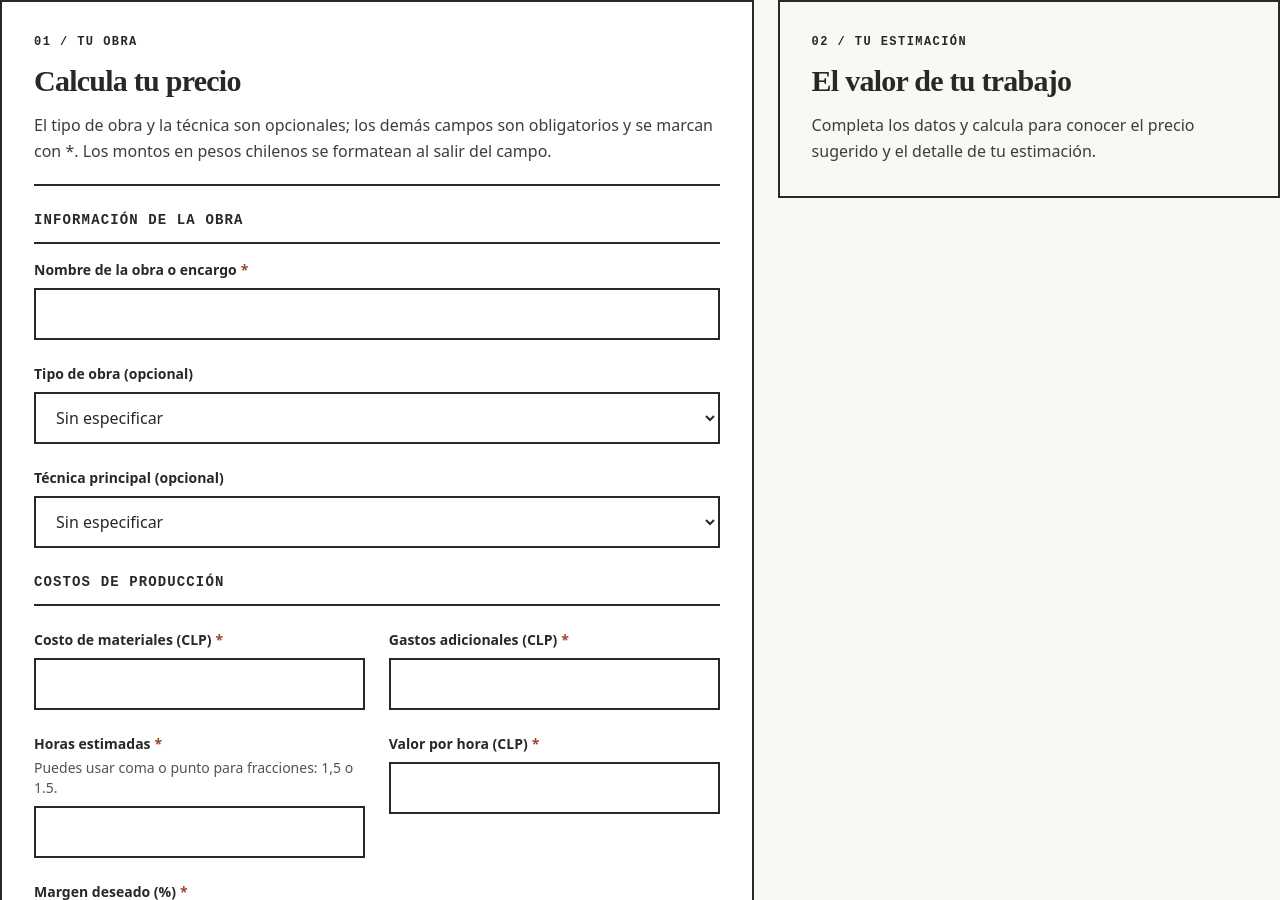
Test case: Calculadora › formatea montos al salir y permite editarlos sin separadores
This screenshot has width=1280, height=900.
Type "5000" into the field labelled "Costo de materiales (CLP)" at (199, 684), box top-left (34, 658), bottom-right (365, 710)
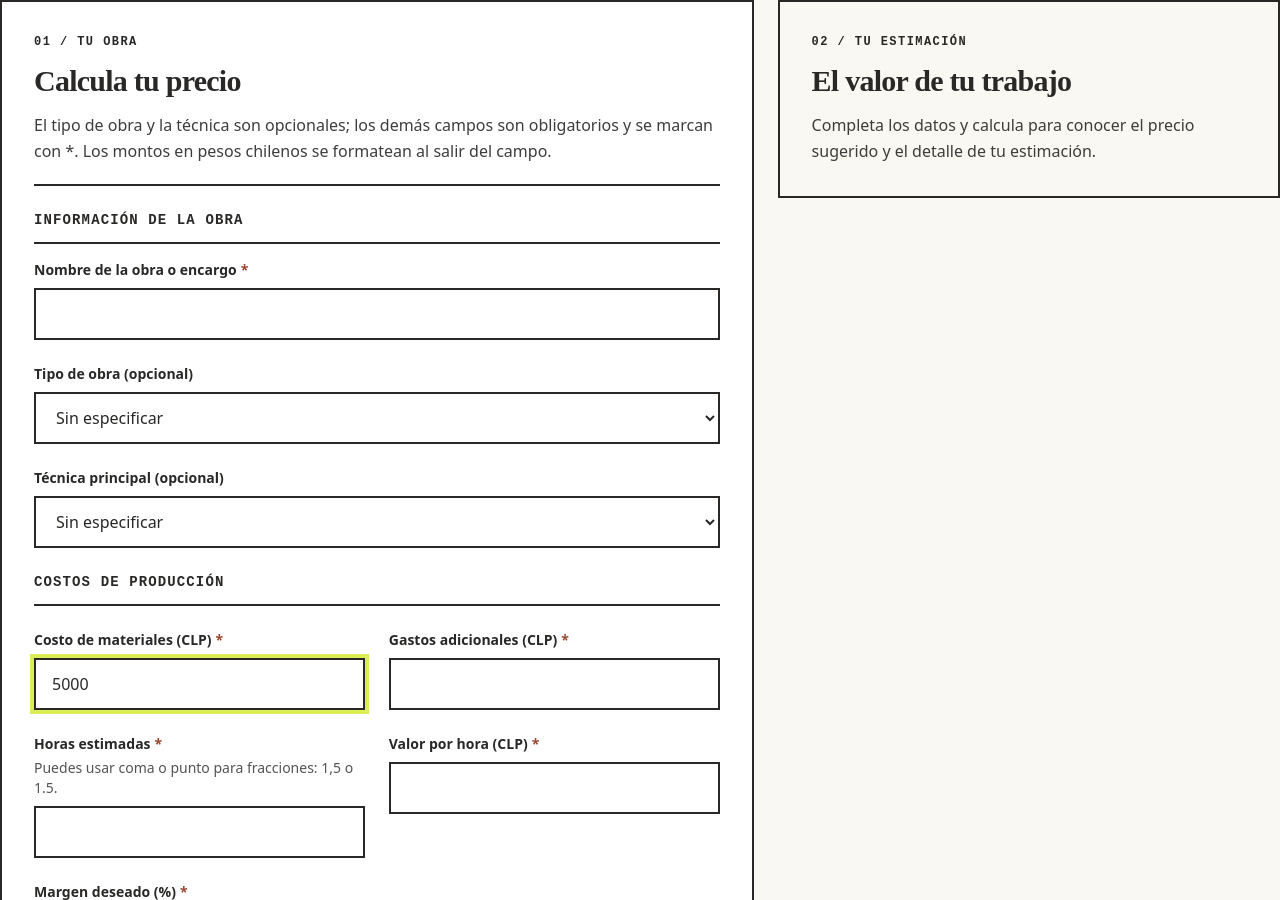
Press Tab
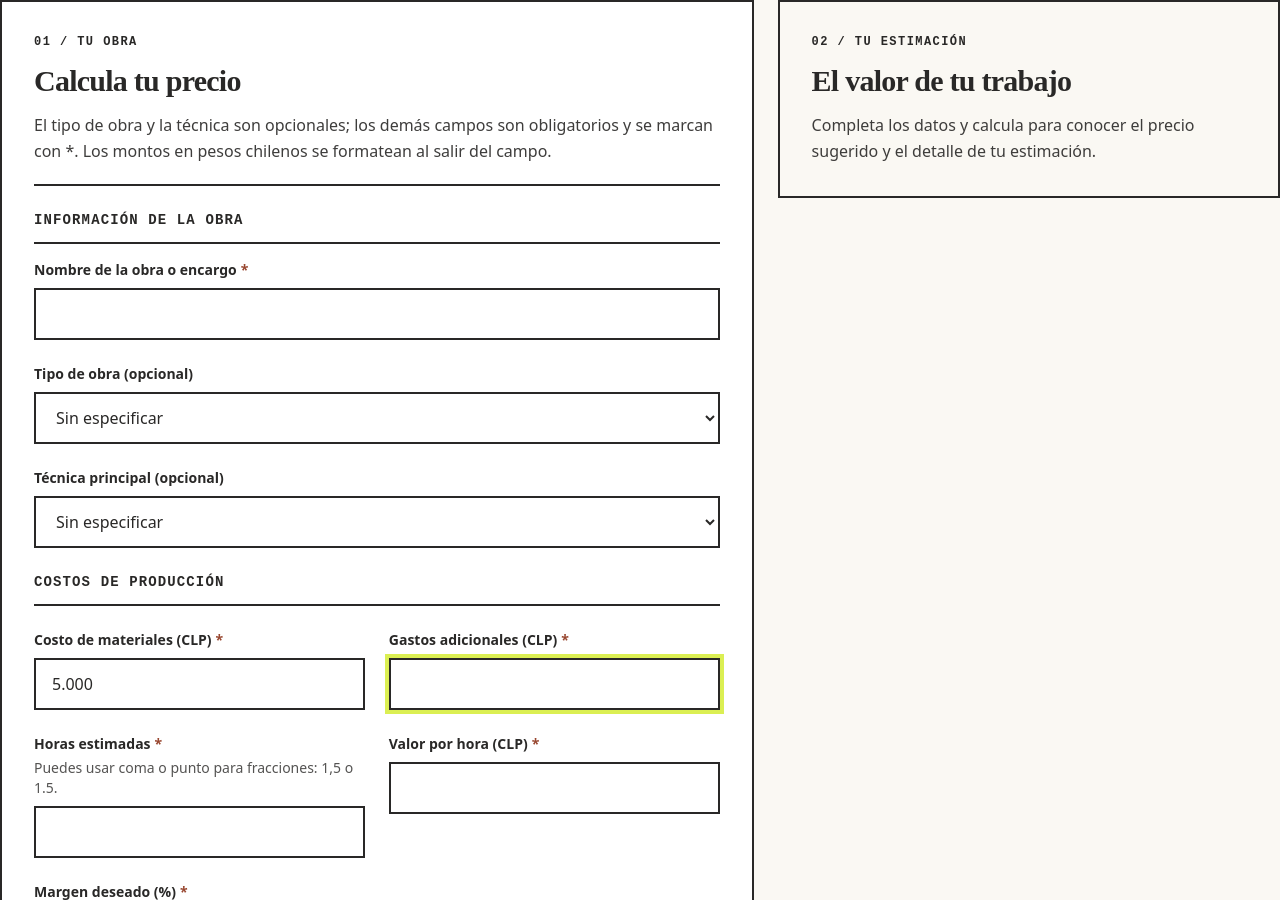
Expected: the field labelled "Costo de materiales (CLP)" holds "5.000"
Click the field labelled "Costo de materiales (CLP)" at (199, 684), box top-left (34, 658), bottom-right (365, 710)
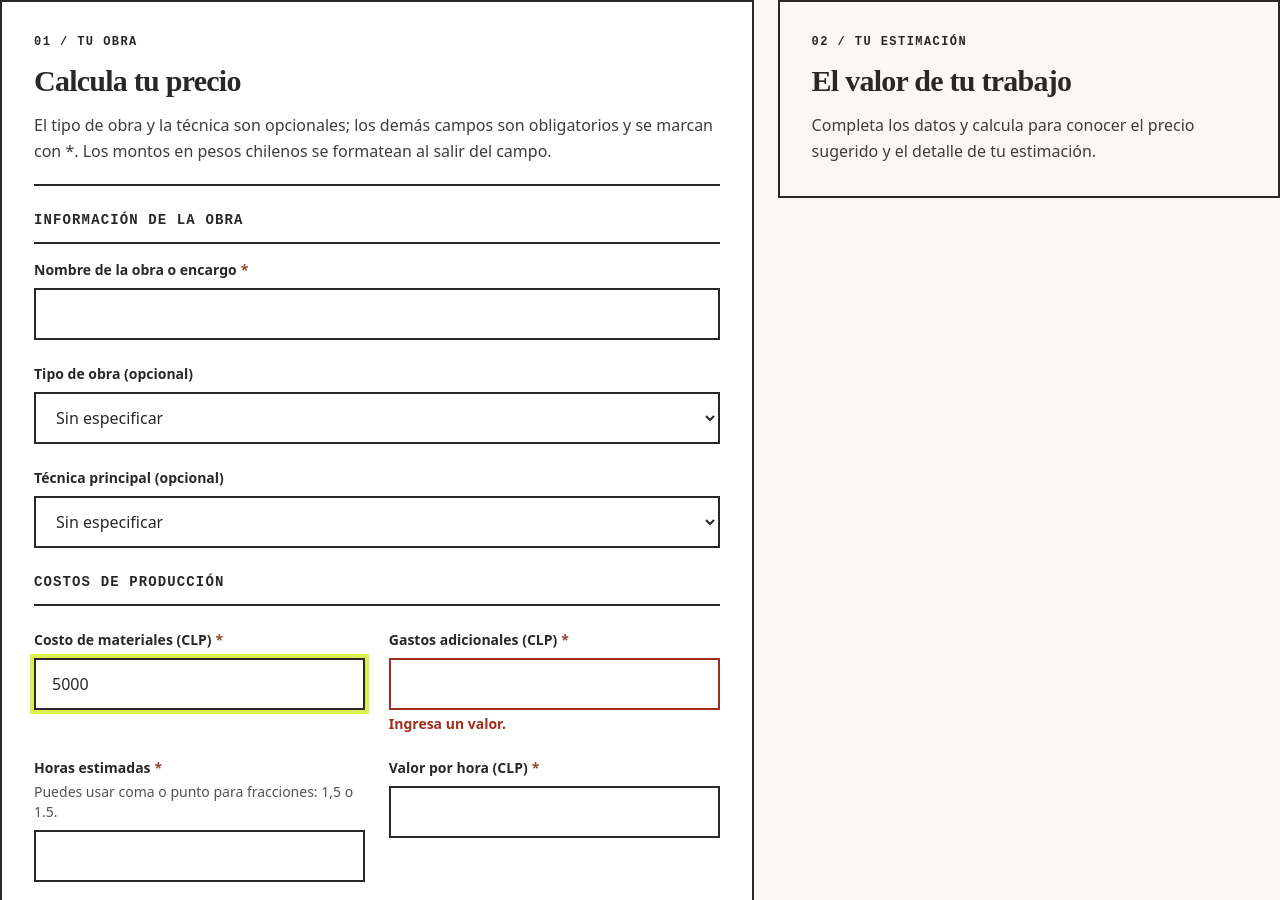
Replace the text in the field labelled "Costo de materiales (CLP)" with "3200,50" at (199, 684), box top-left (34, 658), bottom-right (365, 710)
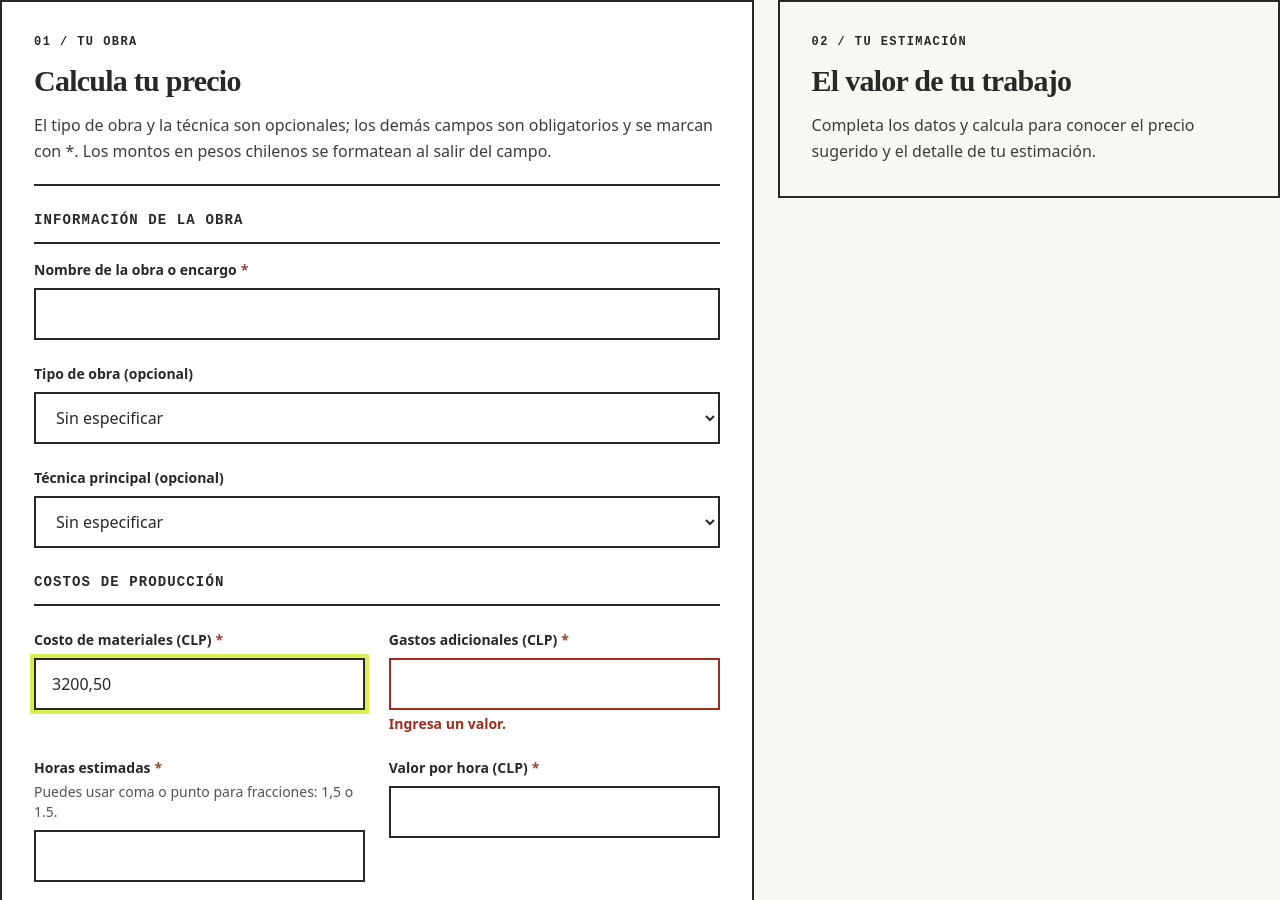
Press Tab
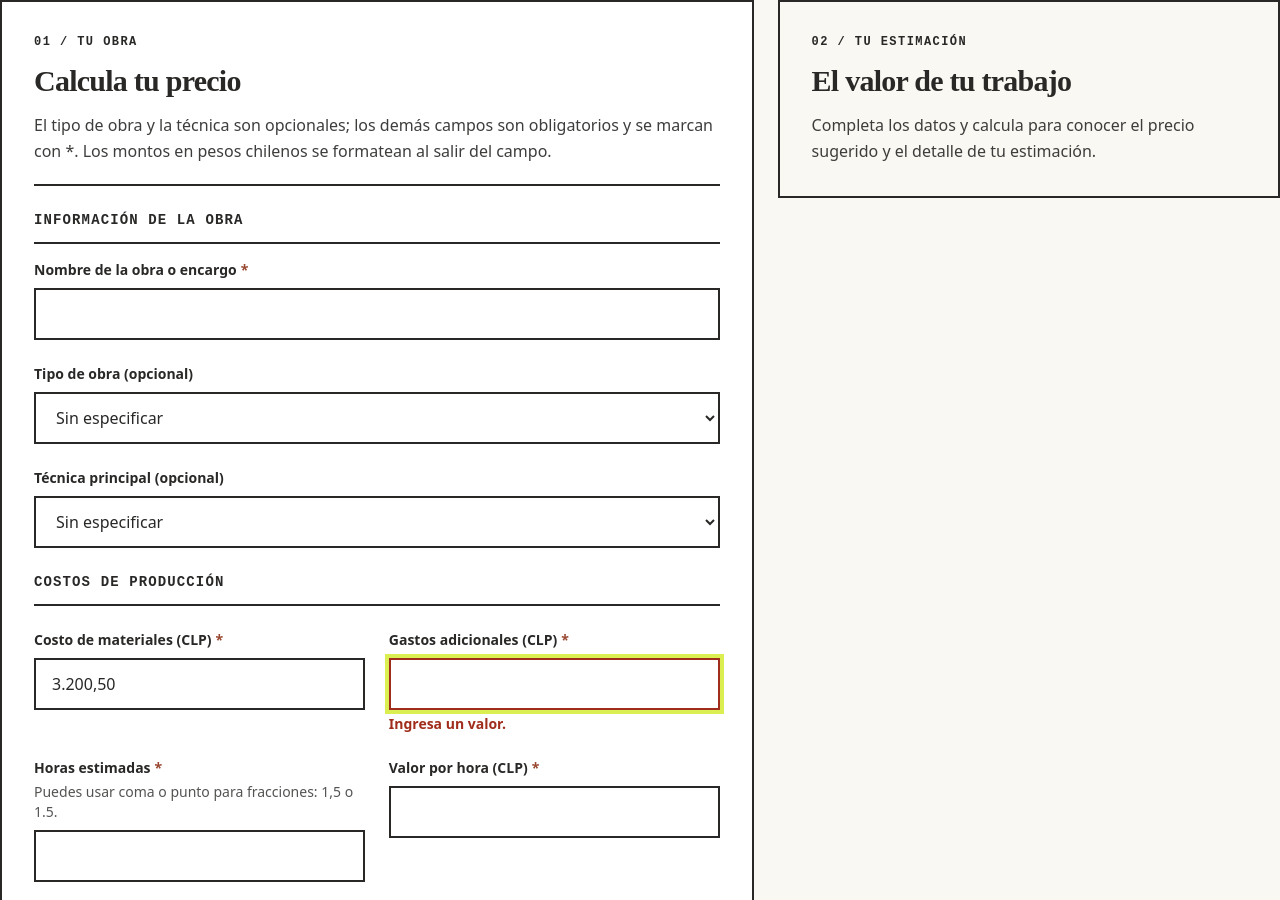
Expected: the field labelled "Costo de materiales (CLP)" holds "3.200,50", top-left (34, 658), bottom-right (365, 710)
